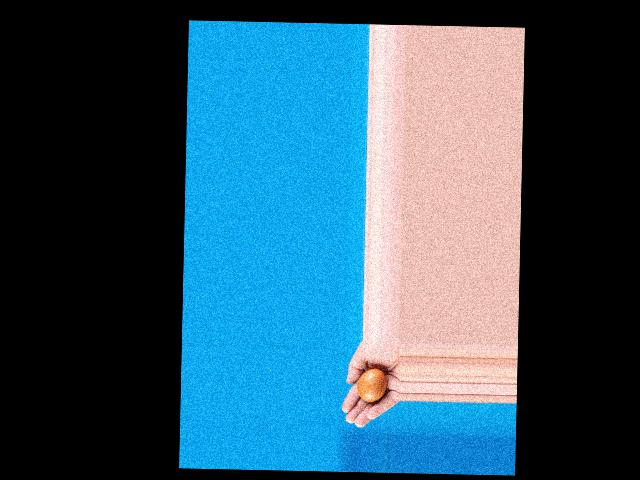egg: (357, 368, 386, 403)
